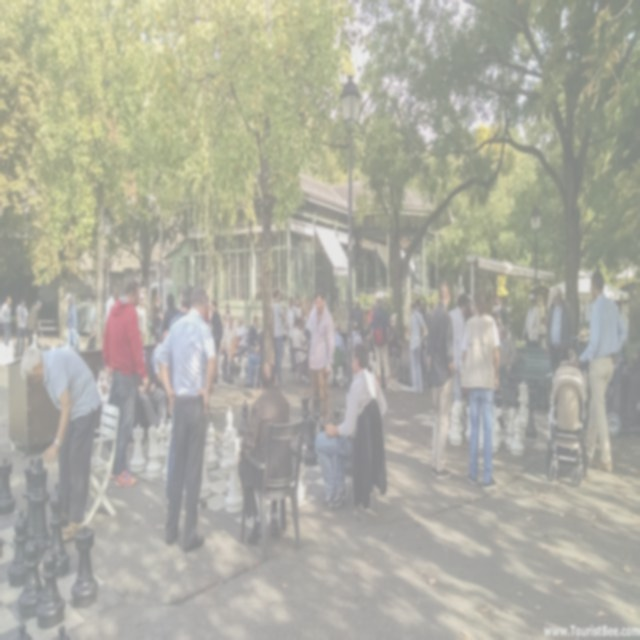pessoa: (18, 343, 102, 550), (154, 282, 218, 552), (312, 339, 388, 511), (576, 266, 628, 474), (163, 284, 209, 516), (234, 360, 291, 546), (106, 272, 148, 487), (459, 286, 500, 492), (424, 278, 457, 484), (544, 286, 576, 422), (306, 288, 336, 422), (133, 329, 167, 428), (369, 294, 394, 394), (448, 292, 468, 403), (150, 327, 170, 428), (406, 300, 425, 394), (270, 287, 288, 386), (521, 292, 542, 373), (208, 298, 224, 391), (290, 316, 310, 386), (158, 291, 182, 344), (227, 314, 247, 376), (244, 328, 264, 388), (414, 298, 427, 390), (286, 296, 301, 374), (64, 291, 82, 354), (497, 322, 518, 375), (332, 320, 348, 387), (219, 314, 237, 368), (302, 298, 315, 366), (15, 296, 29, 358), (500, 294, 513, 358), (386, 328, 402, 378), (136, 292, 150, 348), (27, 298, 43, 347), (247, 314, 260, 372), (152, 291, 164, 345), (104, 284, 120, 324), (350, 296, 365, 338), (366, 302, 376, 362), (88, 312, 101, 358), (352, 320, 364, 351), (464, 292, 474, 326), (292, 296, 302, 324), (221, 302, 231, 330), (492, 294, 502, 314), (427, 302, 433, 312), (178, 292, 182, 305), (421, 302, 425, 308)
